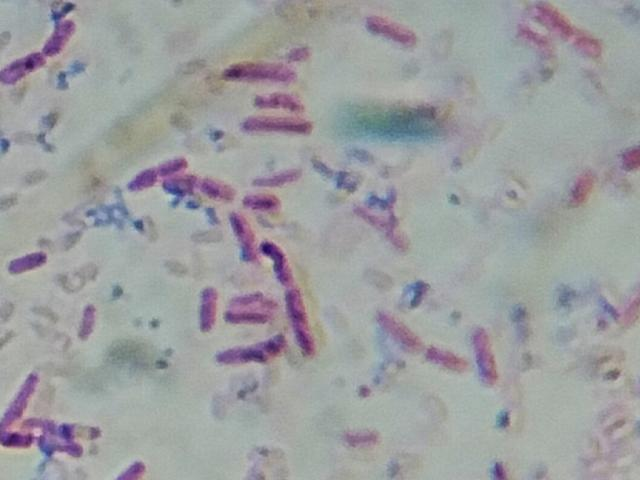E. coli: (208, 50, 298, 81), (238, 112, 325, 142), (538, 7, 594, 50), (221, 335, 288, 367), (42, 13, 81, 63), (471, 327, 502, 389), (365, 13, 417, 49), (286, 285, 313, 354), (8, 429, 73, 455), (379, 310, 423, 347), (128, 152, 178, 181), (25, 419, 97, 439), (568, 165, 600, 210), (191, 286, 220, 335), (255, 87, 307, 114), (2, 376, 33, 419), (426, 342, 465, 376), (2, 50, 39, 85), (9, 245, 49, 277), (76, 302, 108, 341), (226, 212, 254, 256), (111, 456, 158, 480), (263, 240, 289, 282), (255, 165, 303, 187), (176, 176, 230, 195), (228, 302, 269, 323), (243, 195, 279, 210)
